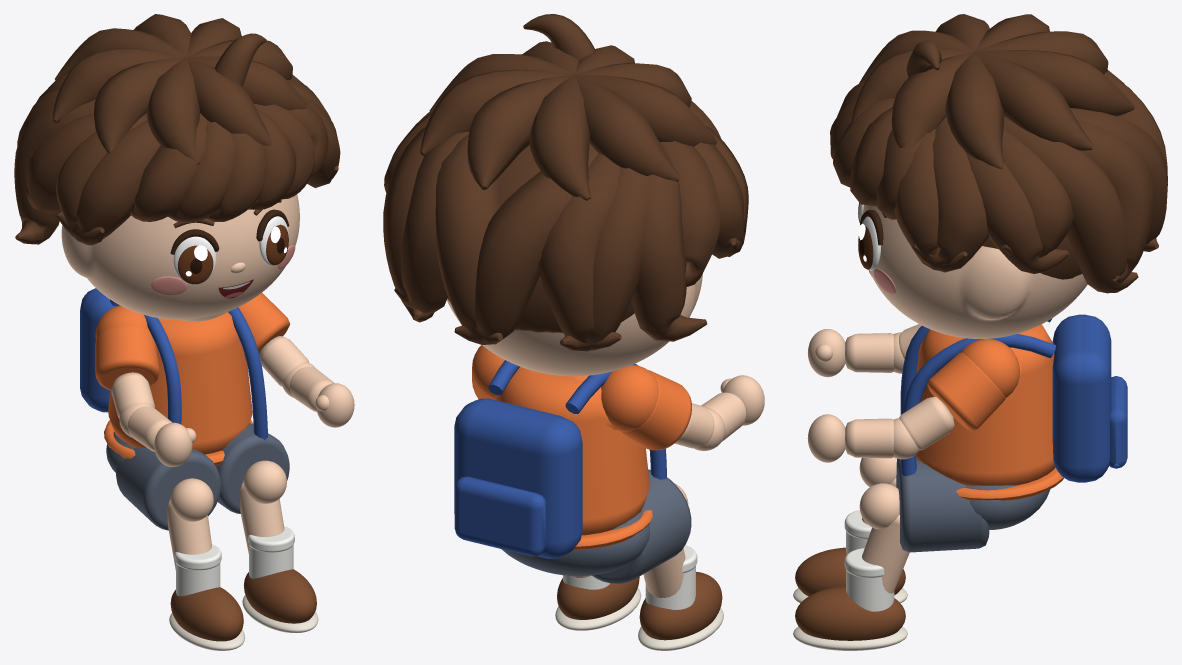
The model's file is karmo_sit.glb.
The picture shows the model from 3 angles, left to right: view 1: azimuth 30°, elevation 25°; view 2: azimuth 150°, elevation 25°; view 3: azimuth 270°, elevation 25°; orthographic projection. The views are drawn at different scales.
Visible parts, largest first — view 1: Head, torso, lock6, shortleg-1, top2, top3, fringe0, lock3, fringe1, top4, top1, sleeve-1 (+42 smaller); view 2: bag, torso, lock0, lock1, lock13, lock3, lock2, Head, bagpocket, lock12, top8, top0 (+31 smaller); view 3: Head, torso, bag, lock11, shortleg1, lock8, lock9, top7, top6, lock12, top8, lock10 (+37 smaller).
Part boxes in pixels (bbox=[...]): Head: bbox=[61, 194, 299, 321]; torso: bbox=[108, 312, 252, 454]; lock6: bbox=[56, 120, 160, 239]; shortleg-1: bbox=[116, 447, 220, 530]; top2: bbox=[94, 57, 185, 153]; top3: bbox=[146, 57, 199, 164]; fringe0: bbox=[130, 113, 207, 221]; lock3: bbox=[14, 99, 95, 244]; fringe1: bbox=[168, 120, 235, 222]; top4: bbox=[186, 57, 272, 145]; top1: bbox=[52, 48, 185, 122]; sleeve-1: bbox=[95, 325, 159, 390]; bag: bbox=[454, 398, 582, 558]; torso: bbox=[495, 367, 649, 535]; lock0: bbox=[454, 143, 597, 344]; lock1: bbox=[538, 153, 621, 350]; lock13: bbox=[435, 134, 502, 344]; lock3: bbox=[631, 141, 707, 341]; lock2: bbox=[560, 167, 650, 351]; Head: bbox=[447, 274, 702, 376]; bagpocket: bbox=[454, 476, 546, 556]; lock12: bbox=[394, 131, 469, 313]; top8: bbox=[467, 74, 575, 189]; top0: bbox=[529, 74, 590, 200]; Head: bbox=[862, 205, 1087, 338]; torso: bbox=[916, 324, 1055, 485]; bag: bbox=[1052, 314, 1111, 482]; lock11: bbox=[1003, 116, 1138, 293]; shortleg1: bbox=[896, 459, 989, 552]; lock8: bbox=[912, 116, 988, 272]; lock9: bbox=[965, 151, 1069, 273]; top7: bbox=[974, 51, 1093, 150]; top6: bbox=[945, 52, 1004, 169]; lock12: bbox=[1077, 120, 1153, 283]; top8: bbox=[975, 50, 1134, 116]; lock10: bbox=[1002, 129, 1073, 257].
Size of the model in its own units: 0.5427 by 1.02 by 0.5747.
